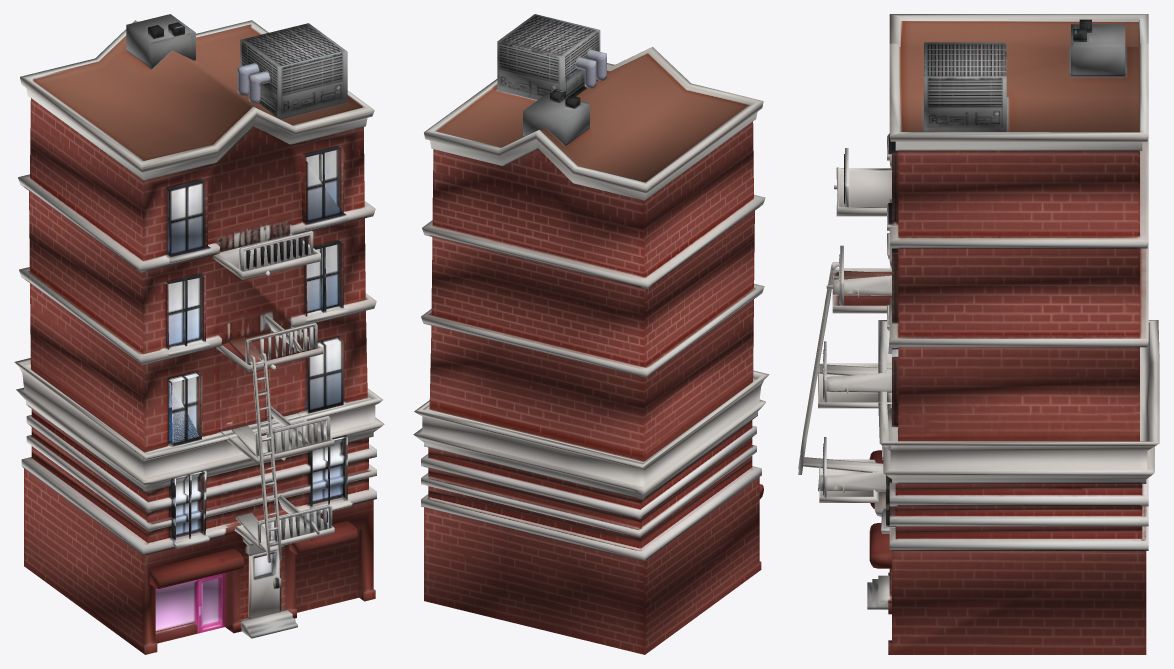
Rendered from bldg_brick.glb.
3 renders of one model, left to right at view 1: azimuth 30°, elevation 25°; view 2: azimuth 150°, elevation 25°; view 3: azimuth 270°, elevation 25°, orthographic. The views are drawn at different scales.
Parts seen in each view (by area): view 1: tripo_node_ca47fe0a-216b-422a-bcff-e0ad9c9e47d6; view 2: tripo_node_ca47fe0a-216b-422a-bcff-e0ad9c9e47d6; view 3: tripo_node_ca47fe0a-216b-422a-bcff-e0ad9c9e47d6.
Boxes of the visible parts, <box> form: tripo_node_ca47fe0a-216b-422a-bcff-e0ad9c9e47d6: <box>14,14,384,654</box>; tripo_node_ca47fe0a-216b-422a-bcff-e0ad9c9e47d6: <box>413,14,769,654</box>; tripo_node_ca47fe0a-216b-422a-bcff-e0ad9c9e47d6: <box>798,14,1159,654</box>.
Size of the model in its own units: 0.4707 by 0.998 by 0.5723.
1 material, 1 textured.
